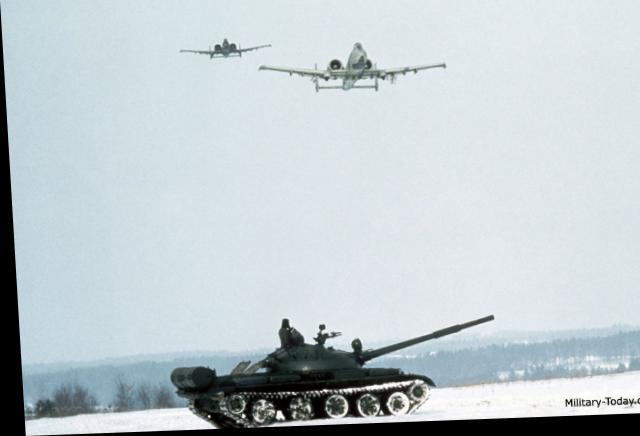tank: (176, 314, 427, 422)
